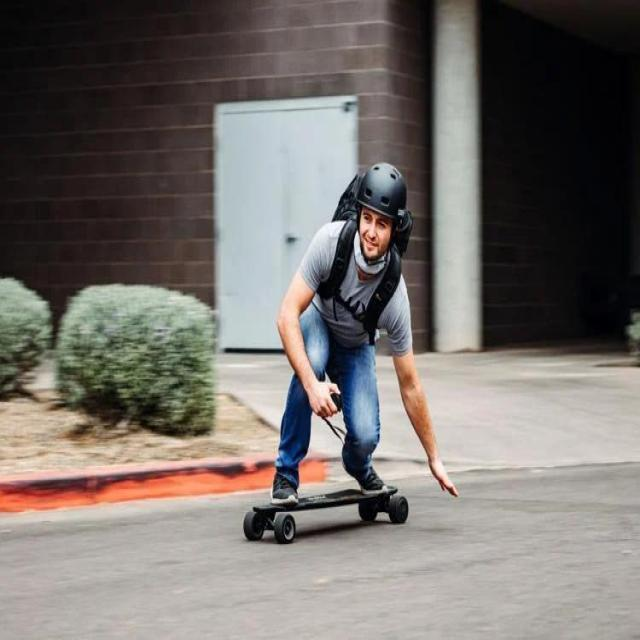helmet: (356, 160, 410, 266)
